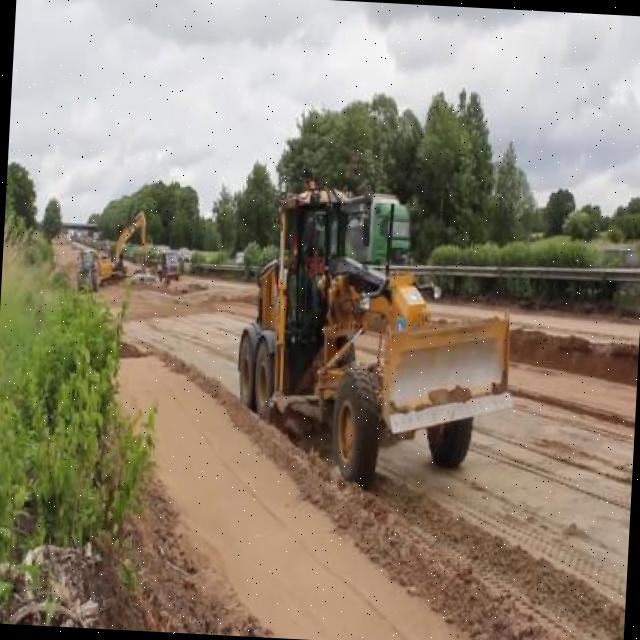Excavator: (97, 206, 148, 287)
